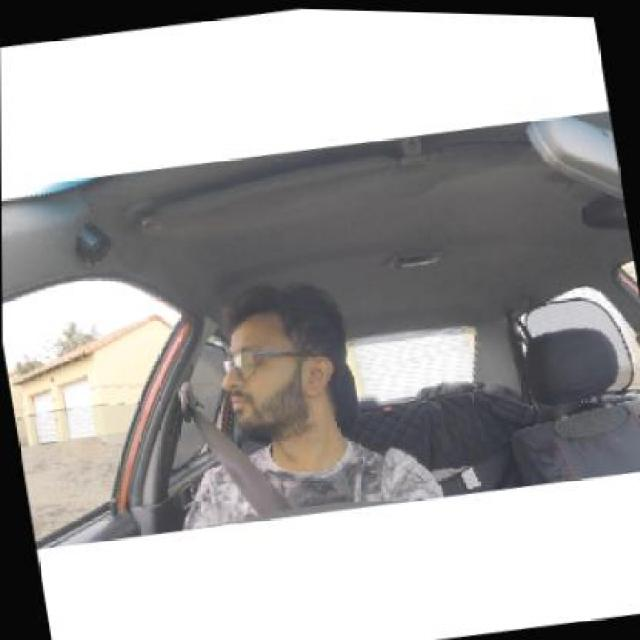LeftRight: (208, 281, 374, 462)
